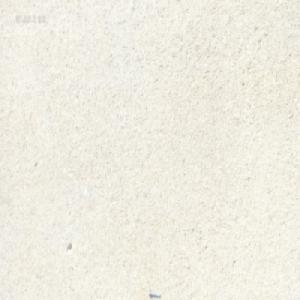Nail: (147, 289, 160, 297)
